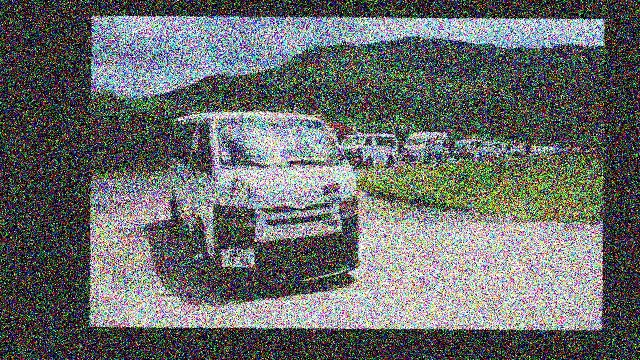van: (167, 111, 359, 298)
